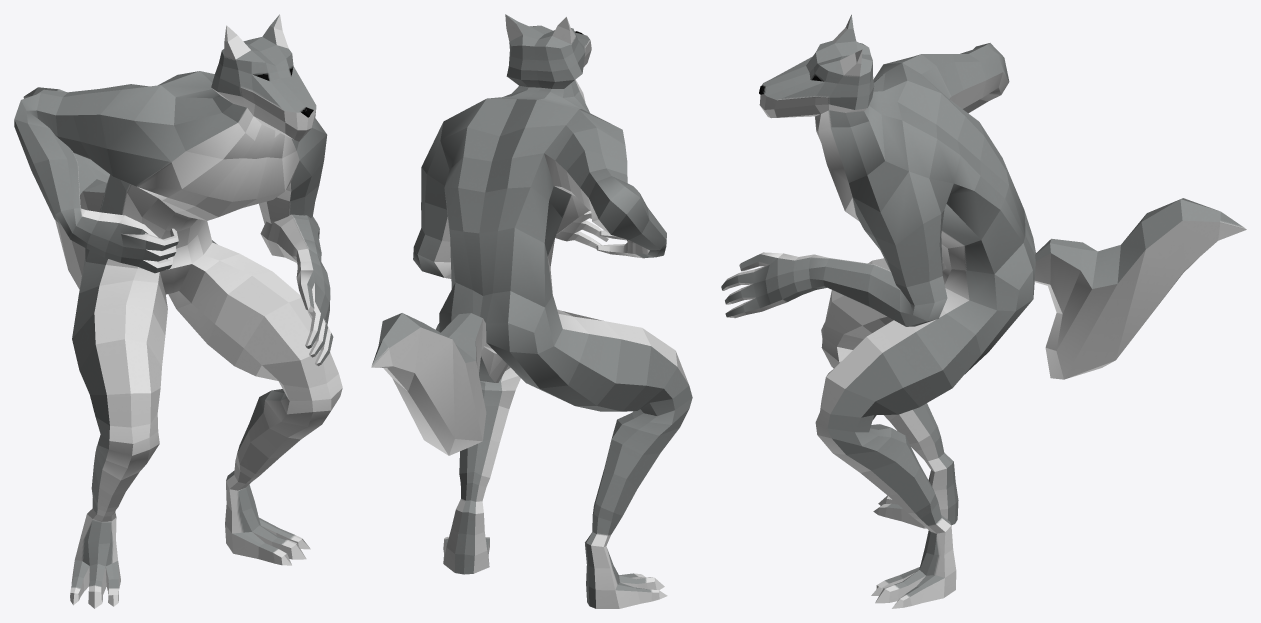
File: WolfIdle_(34).obj
3 views of the same model, side by side, from view 1: azimuth 30°, elevation 25°; view 2: azimuth 150°, elevation 25°; view 3: azimuth 270°, elevation 25° (orthographic). The views are drawn at different scales.
Parts seen in each view (by area): view 1: Box001; view 2: Box001; view 3: Box001.
Boxes of the visible parts, x1,y1,x2,y2 form: Box001: (14, 14, 342, 608); Box001: (371, 14, 692, 608); Box001: (721, 14, 1246, 608).
Size of the model in its own units: 65.68 by 133 by 116.
